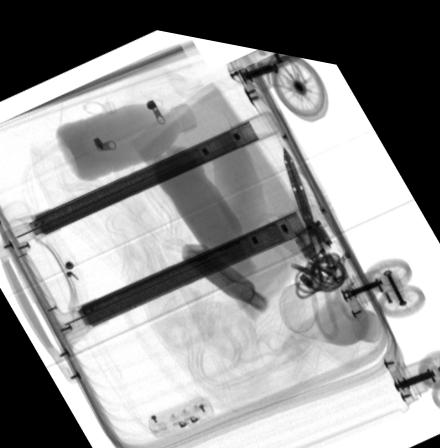Scissors: (281, 133, 364, 327)
